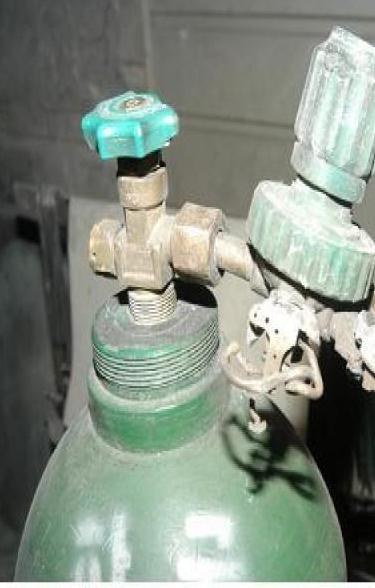cylinder: (1, 1, 375, 588)
